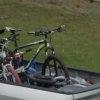Bicycle: (0, 25, 70, 88)
